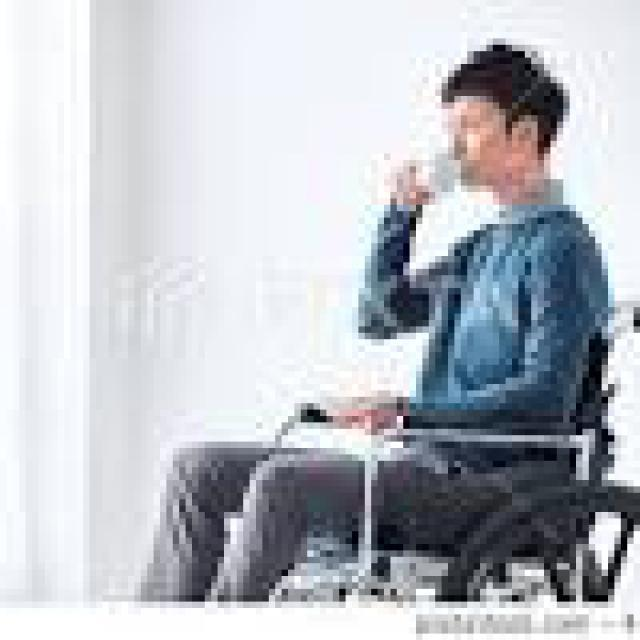wheelchairs: (198, 282, 634, 596)
